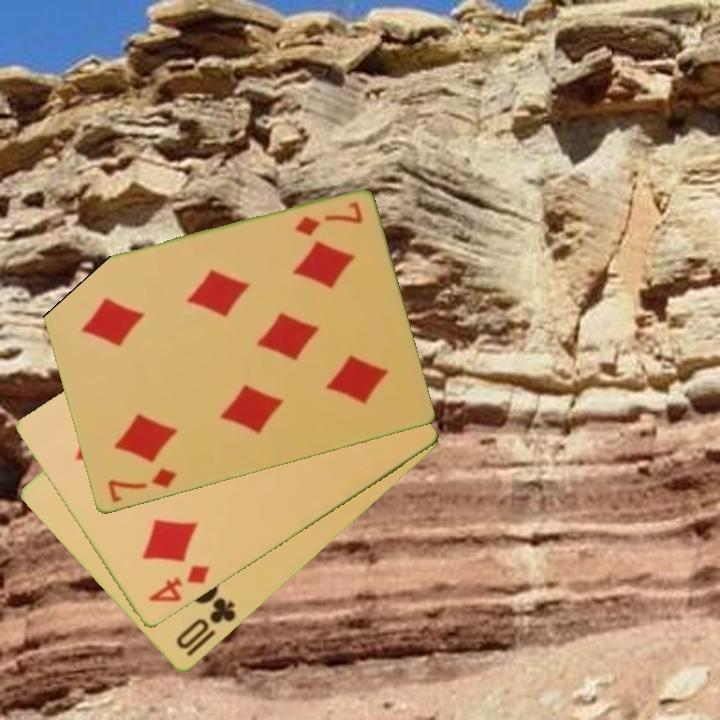10c: (172, 594, 239, 653)
4d: (145, 562, 213, 606)
7d: (291, 198, 365, 240), (104, 465, 179, 506)
